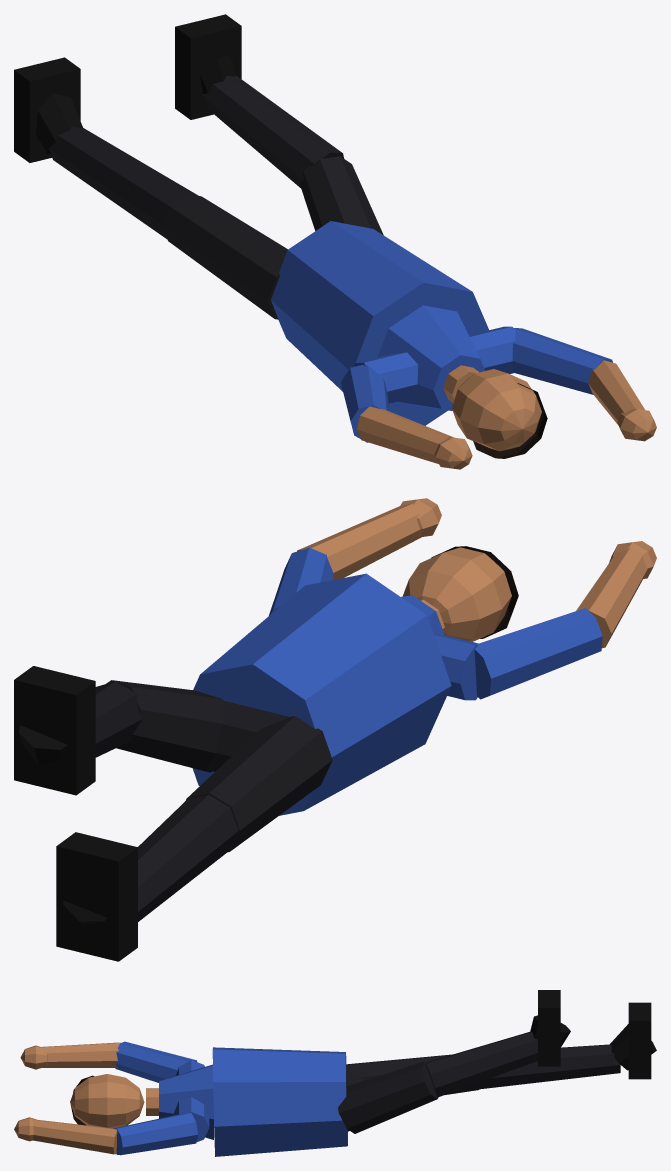
Rendered from dancer_02_hands_up_cm.obj.
3 renders of one model, top to bottom at view 1: azimuth 30°, elevation 25°; view 2: azimuth 150°, elevation 25°; view 3: azimuth 270°, elevation 25°, orthographic. The views are drawn at different scales.
Visible parts, largest first — view 1: dancer_02_hands_up; view 2: dancer_02_hands_up; view 3: dancer_02_hands_up.
Part boxes in pixels (x1=…): dancer_02_hands_up: x1=14, y1=14, x2=656, y2=469; dancer_02_hands_up: x1=14, y1=498, x2=656, y2=961; dancer_02_hands_up: x1=14, y1=990, x2=656, y2=1156.
Bounding box in the file's own units: 67.22 × 55.5 × 199.
